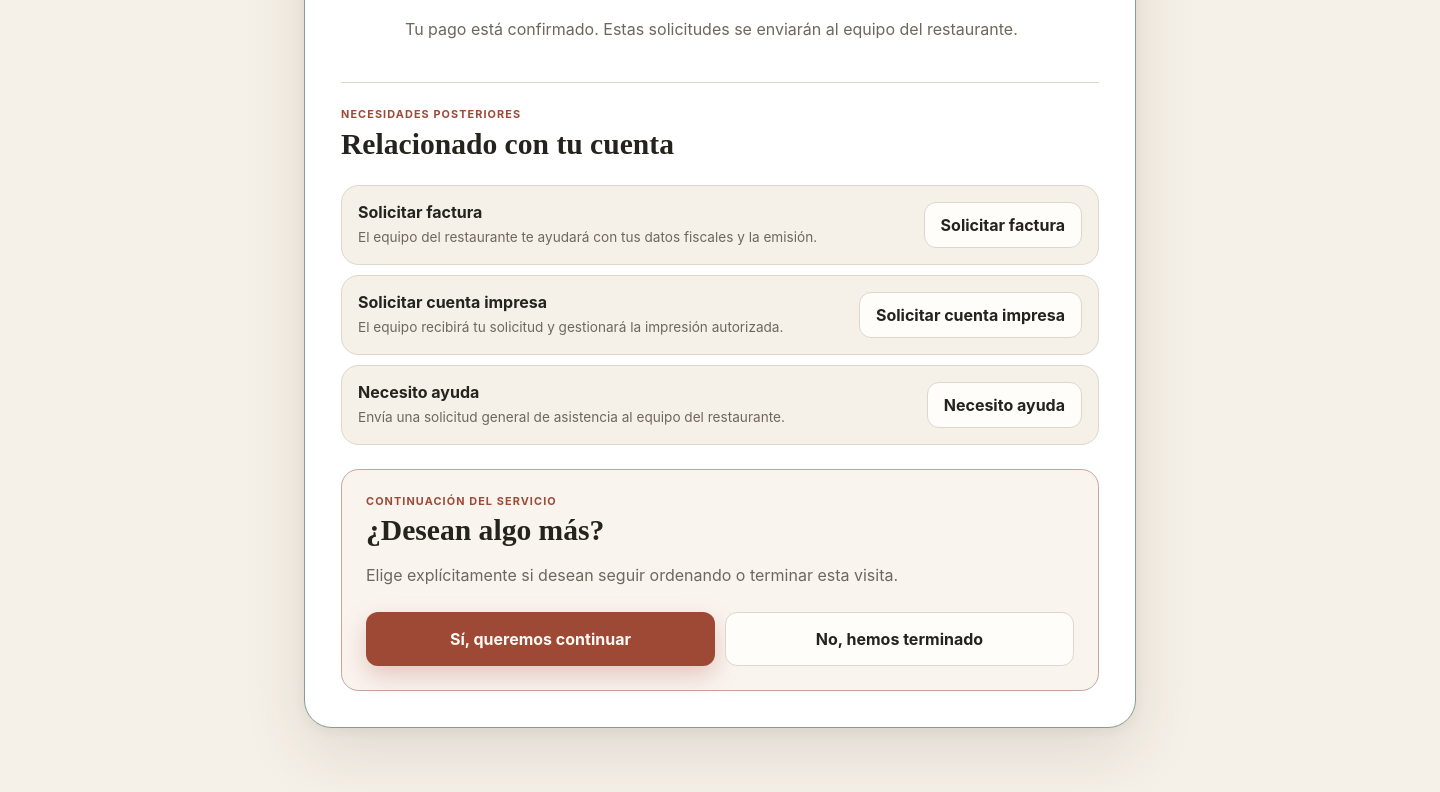
Test: diner payment status and settlement experience › submits explicit YES through the continuation contract and returns to the menu
The width and height of the screenshot is (1440, 792).
(page scrolled)
Click the button "Sí, queremos continuar".
click(540, 639)  # box [366,612,715,666]
(page scrolled)
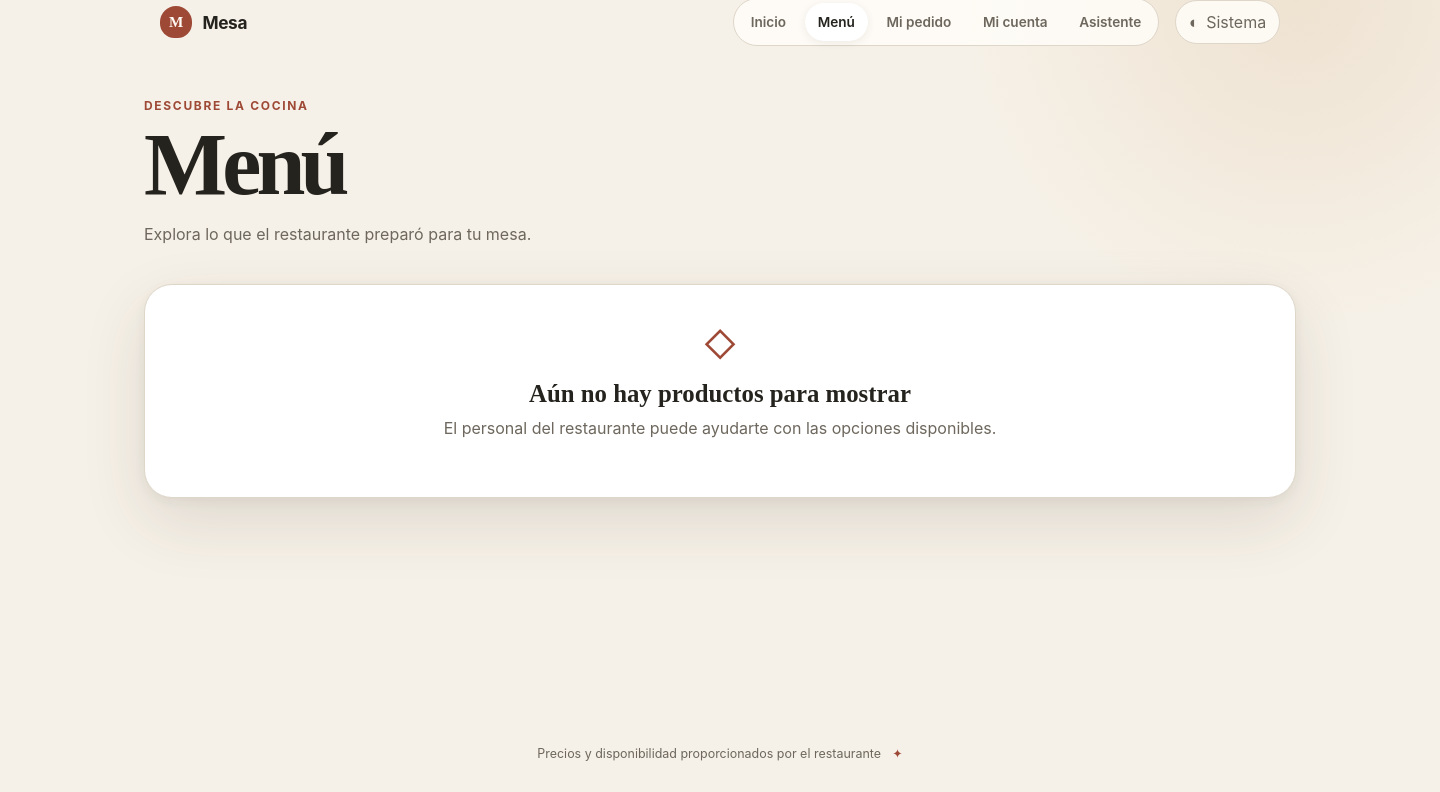
Now the heading "Menú" is shown, box [144,116,345,213]
